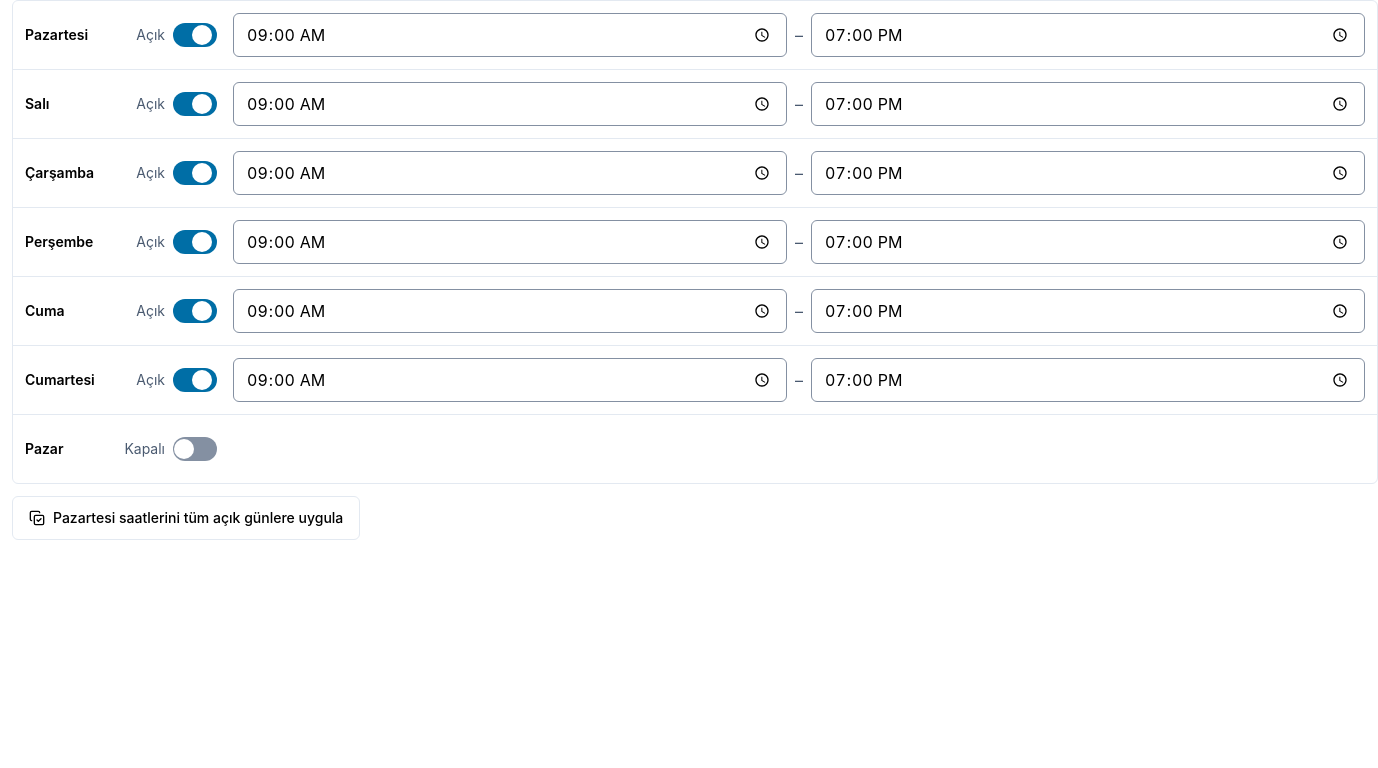
Test: WorkingHoursEditor › bir günü açıp kapatabilir
The width and height of the screenshot is (1378, 768).
Click the switch named "Pazar açık" at (195, 449), box [173, 437, 217, 461]
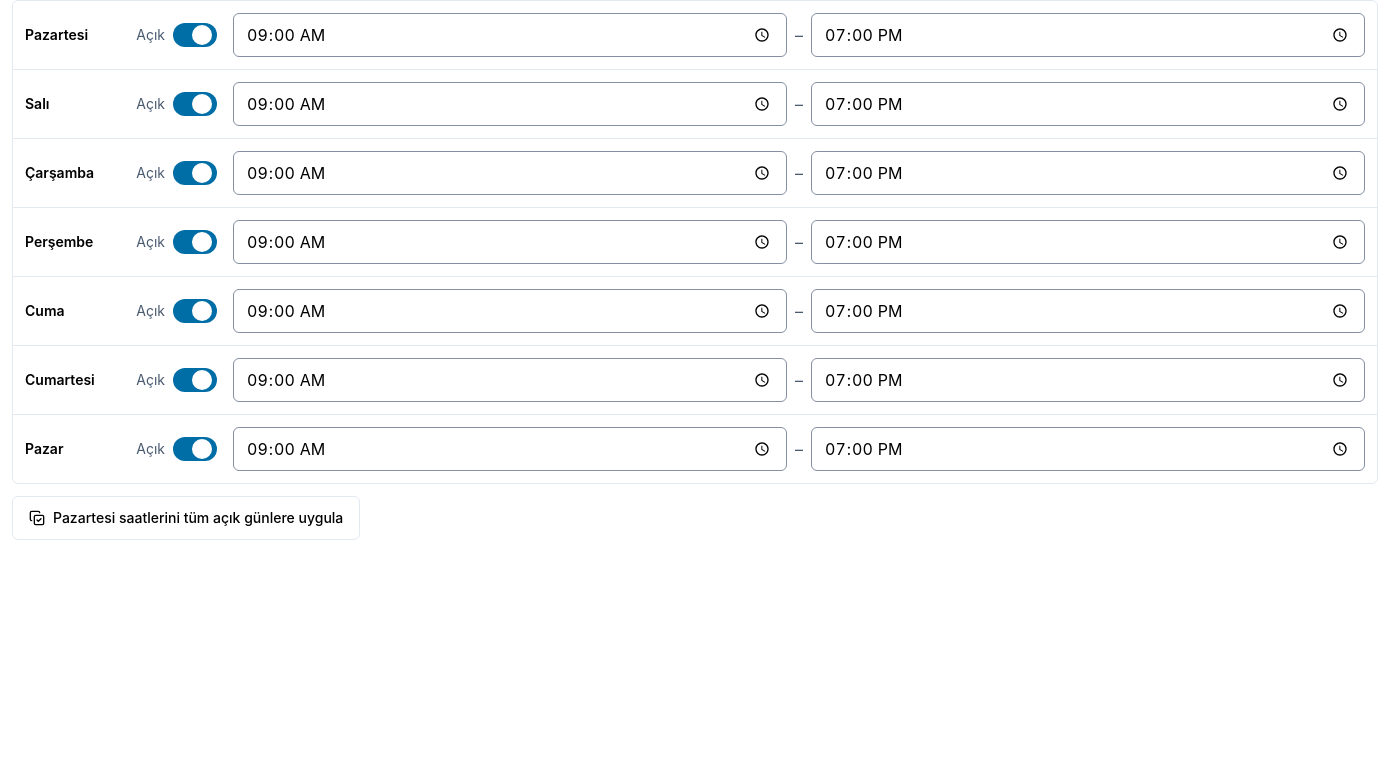
expect the time field named "Pazar açılış" holds "09:00": met, box [233, 427, 787, 471]
